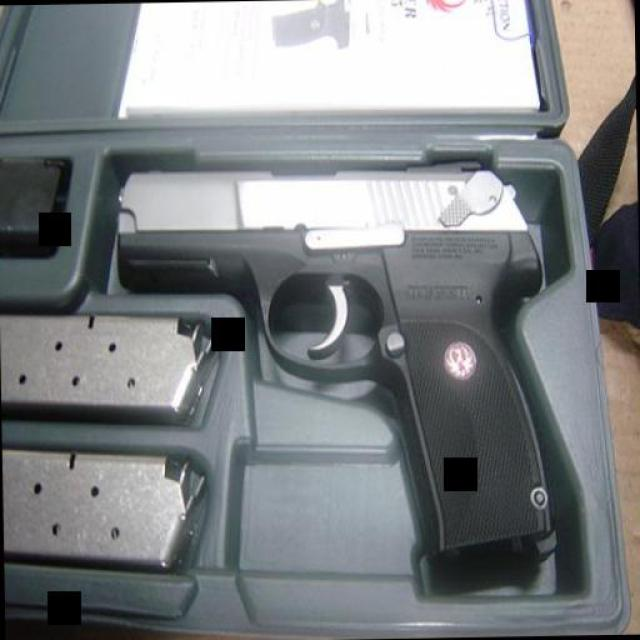gun: (115, 150, 560, 570)
